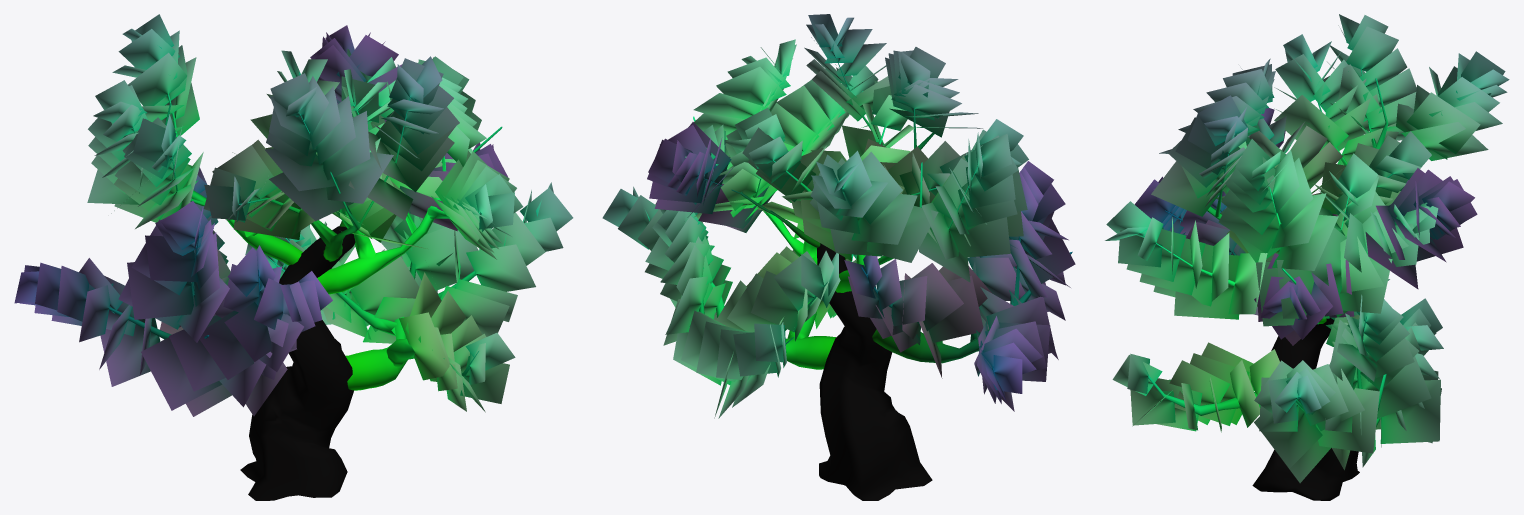
The model's file is SM_DeadTree2 .fbx.
3 renders of one model, left to right at view 1: azimuth 30°, elevation 25°; view 2: azimuth 150°, elevation 25°; view 3: azimuth 270°, elevation 25°, orthographic. The views are drawn at different scales.
Parts seen in each view (by area): view 1: SM_DeadTree2; view 2: SM_DeadTree2; view 3: SM_DeadTree2.
Part boxes in pixels (bbox=[...]): SM_DeadTree2: bbox=[14, 14, 573, 500]; SM_DeadTree2: bbox=[602, 14, 1075, 500]; SM_DeadTree2: bbox=[1105, 14, 1509, 500].
Size of the model in its own units: 751 by 631 by 557.
